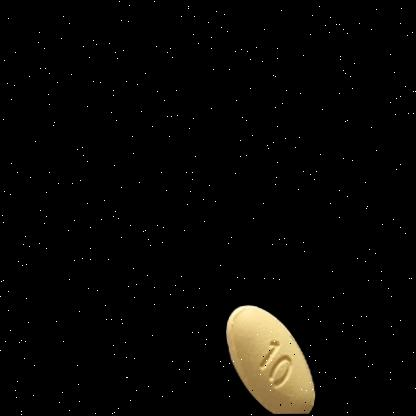tovast10: (201, 277, 347, 415)
